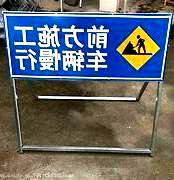sign: (5, 11, 164, 80)
